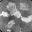people: (10, 9, 22, 18), (6, 2, 16, 12), (21, 15, 32, 23), (7, 20, 15, 28), (0, 11, 9, 18)
